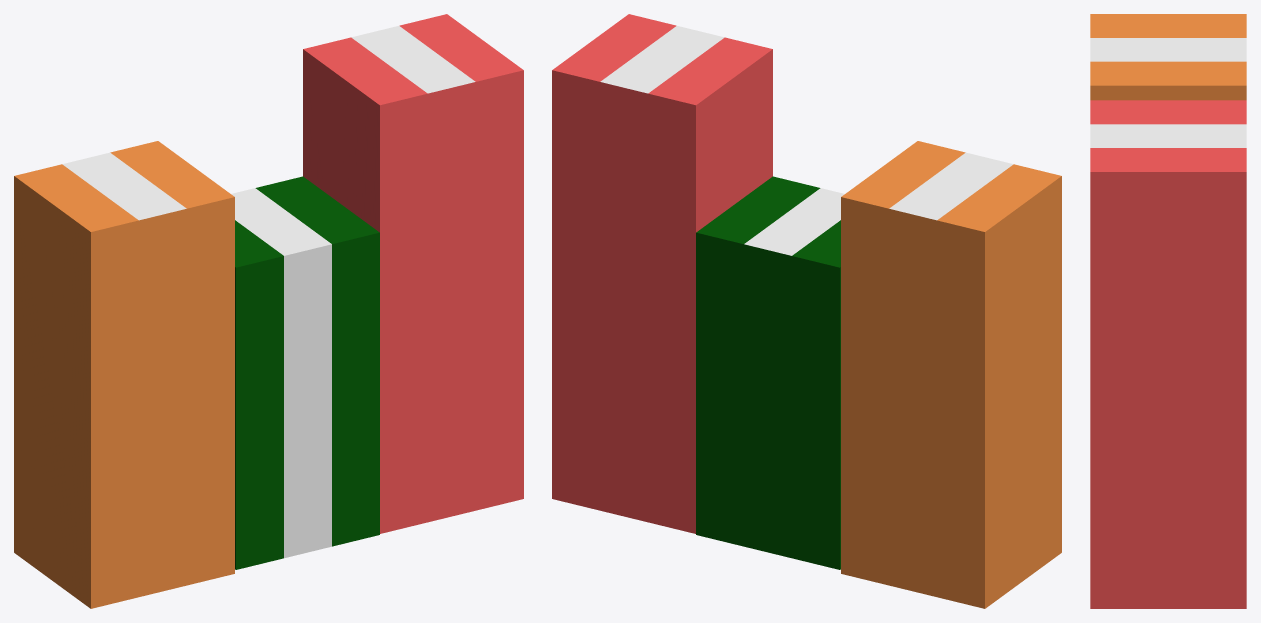
File: book.fbx
3 renders of one model, left to right at view 1: azimuth 30°, elevation 25°; view 2: azimuth 150°, elevation 25°; view 3: azimuth 270°, elevation 25°, orthographic.
Visible parts, largest first — view 1: Cube; view 2: Cube; view 3: Cube.
Boxes of the visible parts, <box> form: Cube: <box>14,14,523,608</box>; Cube: <box>552,14,1061,608</box>; Cube: <box>1090,14,1246,608</box>.
Size of the model in its own units: 651 by 622 by 200.
